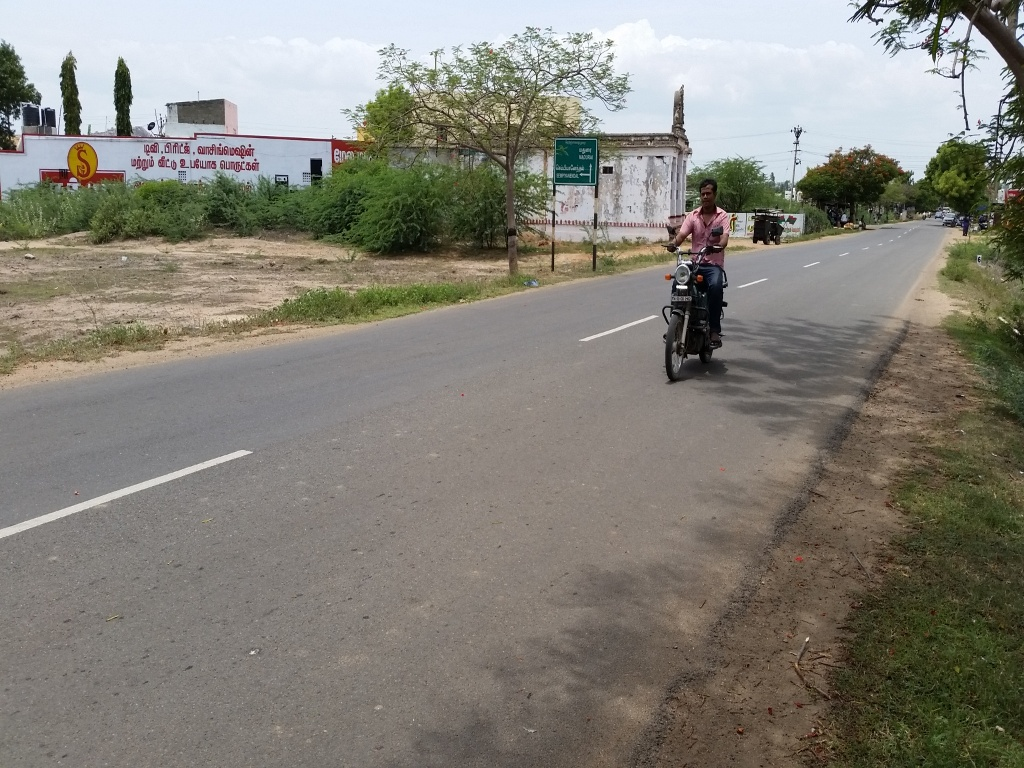biker: (636, 145, 765, 397)
nohelmet: (692, 172, 727, 220)
